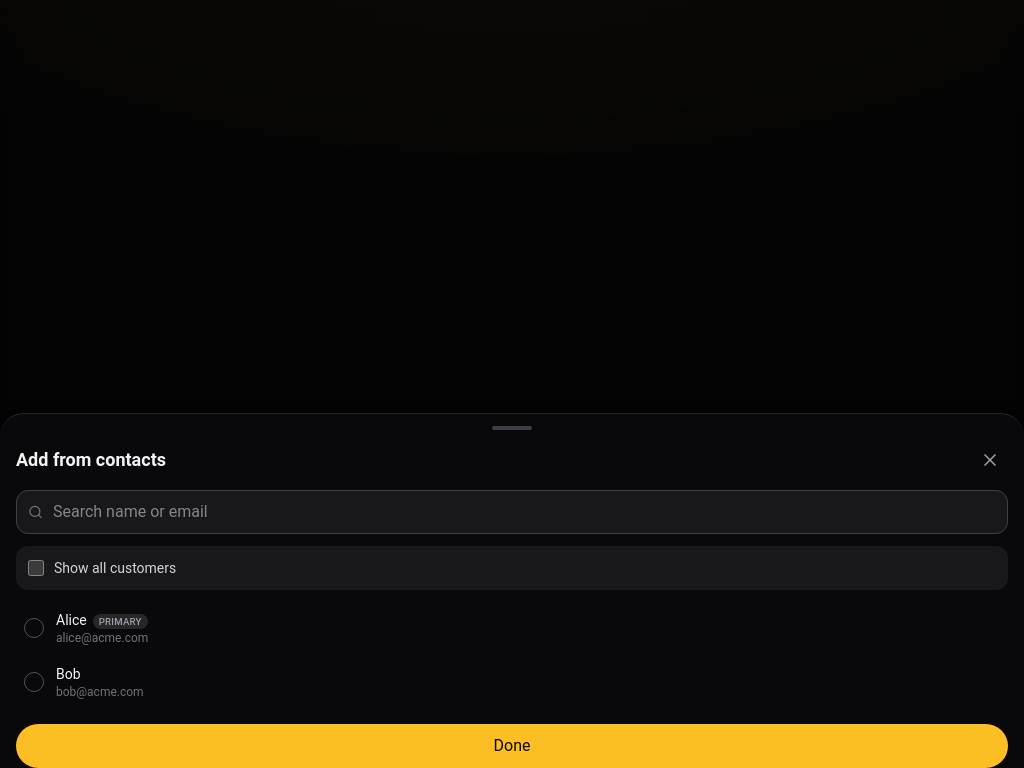
Scenario: ContactPicker › renders the empty state when no contacts match
Check: the text "Alice" is shown, box [56,612,87,628]
Type "zzz" into the field named "Search contacts". click: (512, 512)
box: [16,490,1008,534]
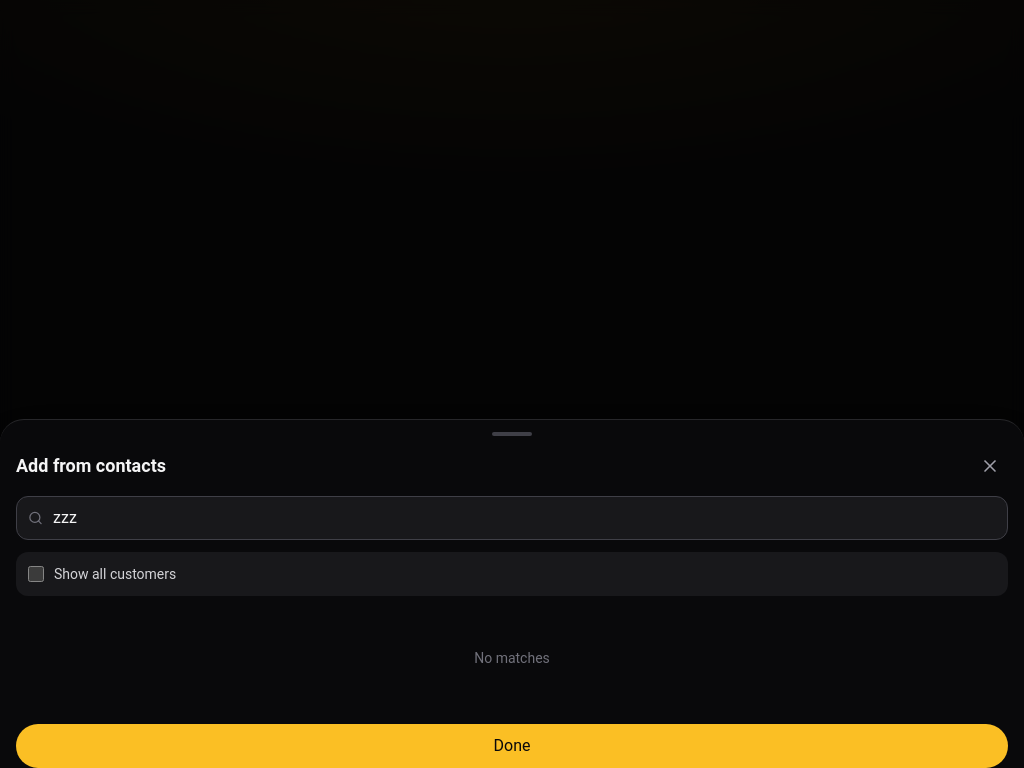
Check: the text "No matches" is shown, box [474,650,550,666]
